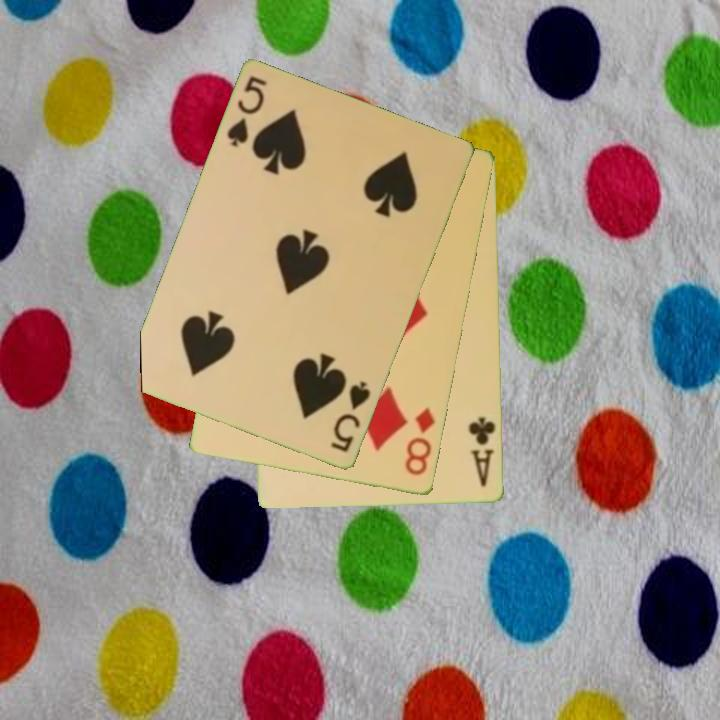5s: (327, 378, 374, 456), (223, 73, 270, 151)
8d: (402, 405, 438, 479)
Ac: (466, 414, 499, 490)
